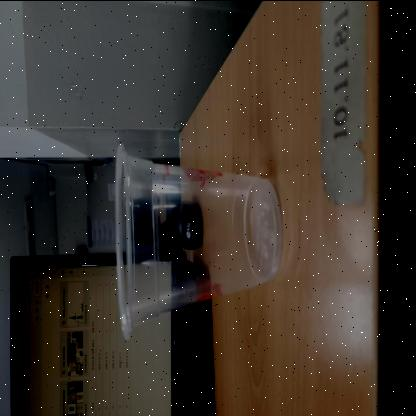Others: (114, 138, 280, 340)
